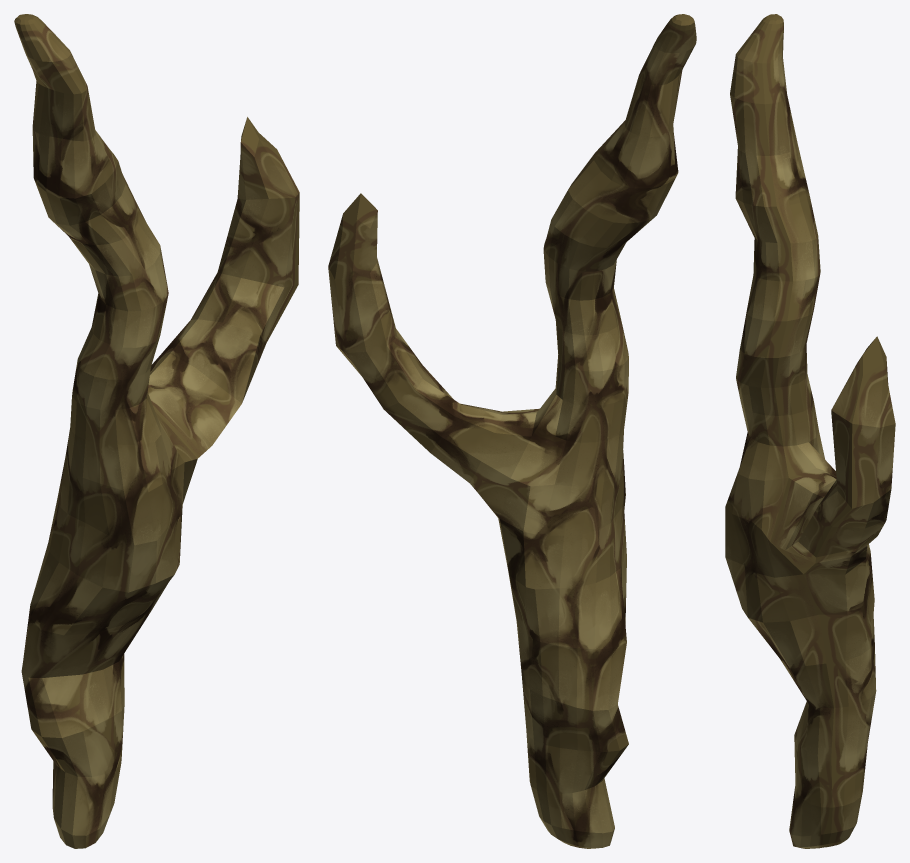
Rendered from branch3.fbx.
3 views of the same model, side by side, from view 1: azimuth 30°, elevation 25°; view 2: azimuth 150°, elevation 25°; view 3: azimuth 270°, elevation 25° (orthographic). The views are drawn at different scales.
Parts seen in each view (by area): view 1: branch3; view 2: branch3; view 3: branch3.
Boxes of the visible parts, x1,y1,x2,y2 form: branch3: [14, 14, 299, 848]; branch3: [328, 14, 696, 848]; branch3: [725, 14, 895, 848].
Bounding box in the file's own units: 342 × 861 × 167.
